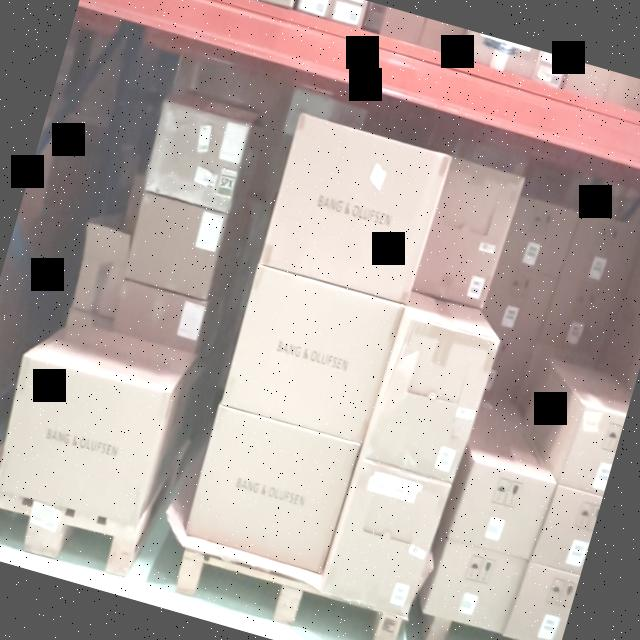box: (255, 114, 452, 311), (221, 266, 405, 453), (183, 406, 354, 574), (0, 357, 172, 523), (368, 316, 493, 482), (321, 462, 446, 616), (140, 102, 254, 206), (448, 461, 553, 562), (125, 196, 227, 293), (426, 546, 522, 634)
